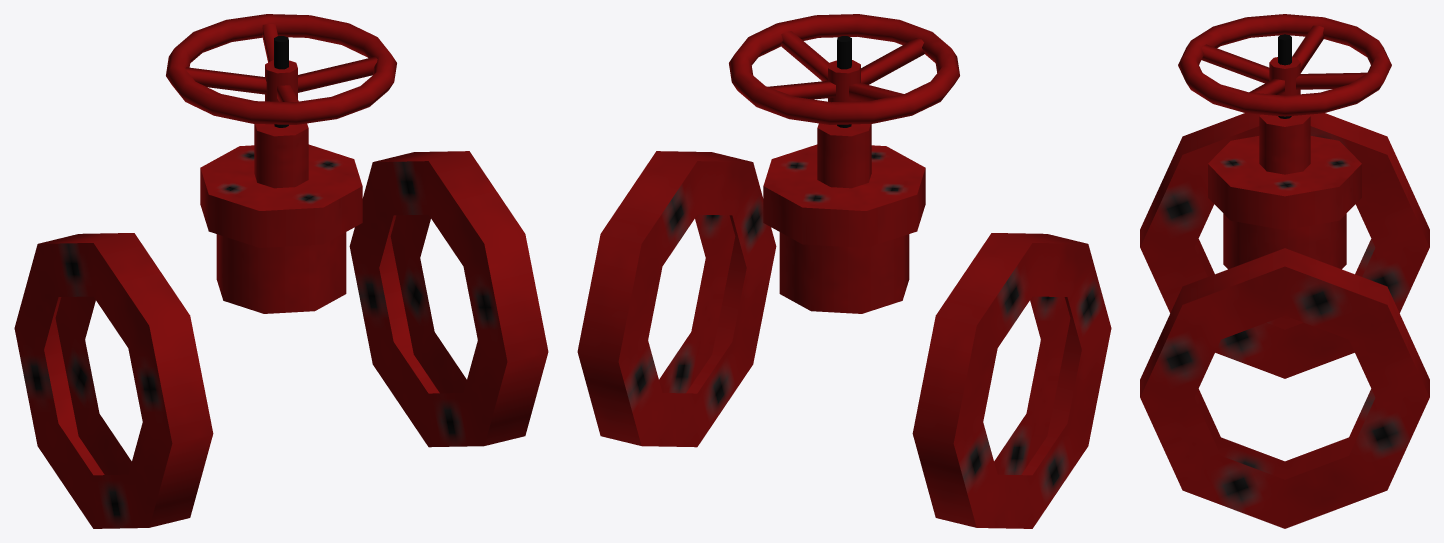
Rendered from ValveSmall.FBX.
3 renders of one model, left to right at view 1: azimuth 30°, elevation 25°; view 2: azimuth 150°, elevation 25°; view 3: azimuth 270°, elevation 25°, orthographic. The views are drawn at different scales.
Parts seen in each view (by area): view 1: ValveSmall; view 2: ValveSmall; view 3: ValveSmall.
Boxes of the visible parts, <box> form: ValveSmall: <box>14,14,548,528</box>; ValveSmall: <box>577,14,1111,528</box>; ValveSmall: <box>1140,14,1429,528</box>.
Size of the model in its own units: 4.33 by 4.89 by 3.15.
